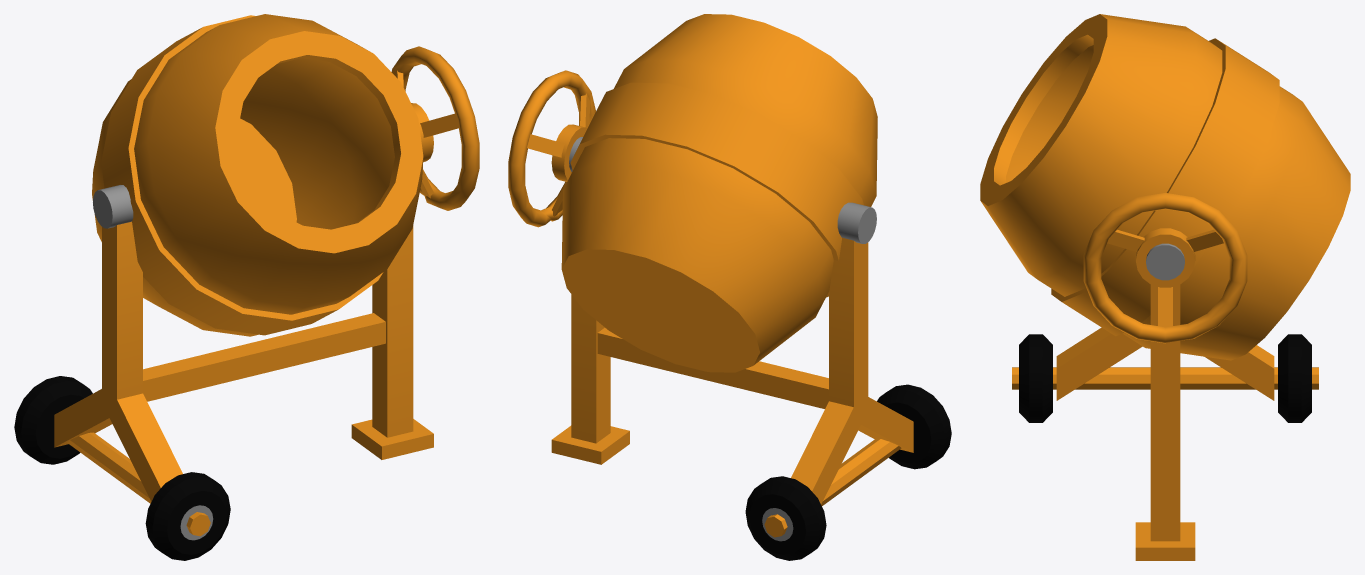
Rendered from ConcretMixer.FBX.
3 renders of one model, left to right at view 1: azimuth 30°, elevation 25°; view 2: azimuth 150°, elevation 25°; view 3: azimuth 270°, elevation 25°, orthographic. The views are drawn at different scales.
Parts seen in each view (by area): view 1: Barrel, Legs; view 2: Barrel, Legs; view 3: Barrel, Legs.
Part boxes in pixels (x1,y1,x2,y2): Barrel: (92,14,479,336); Legs: (14,221,433,560); Barrel: (508,14,877,372); Legs: (551,172,951,560); Barrel: (980,14,1350,360); Legs: (1012,284,1318,560).
Size of the model in its own units: 137 by 125 by 169.
